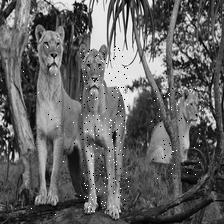Lion: (22, 22, 75, 215), (80, 45, 129, 212), (152, 89, 204, 183)
